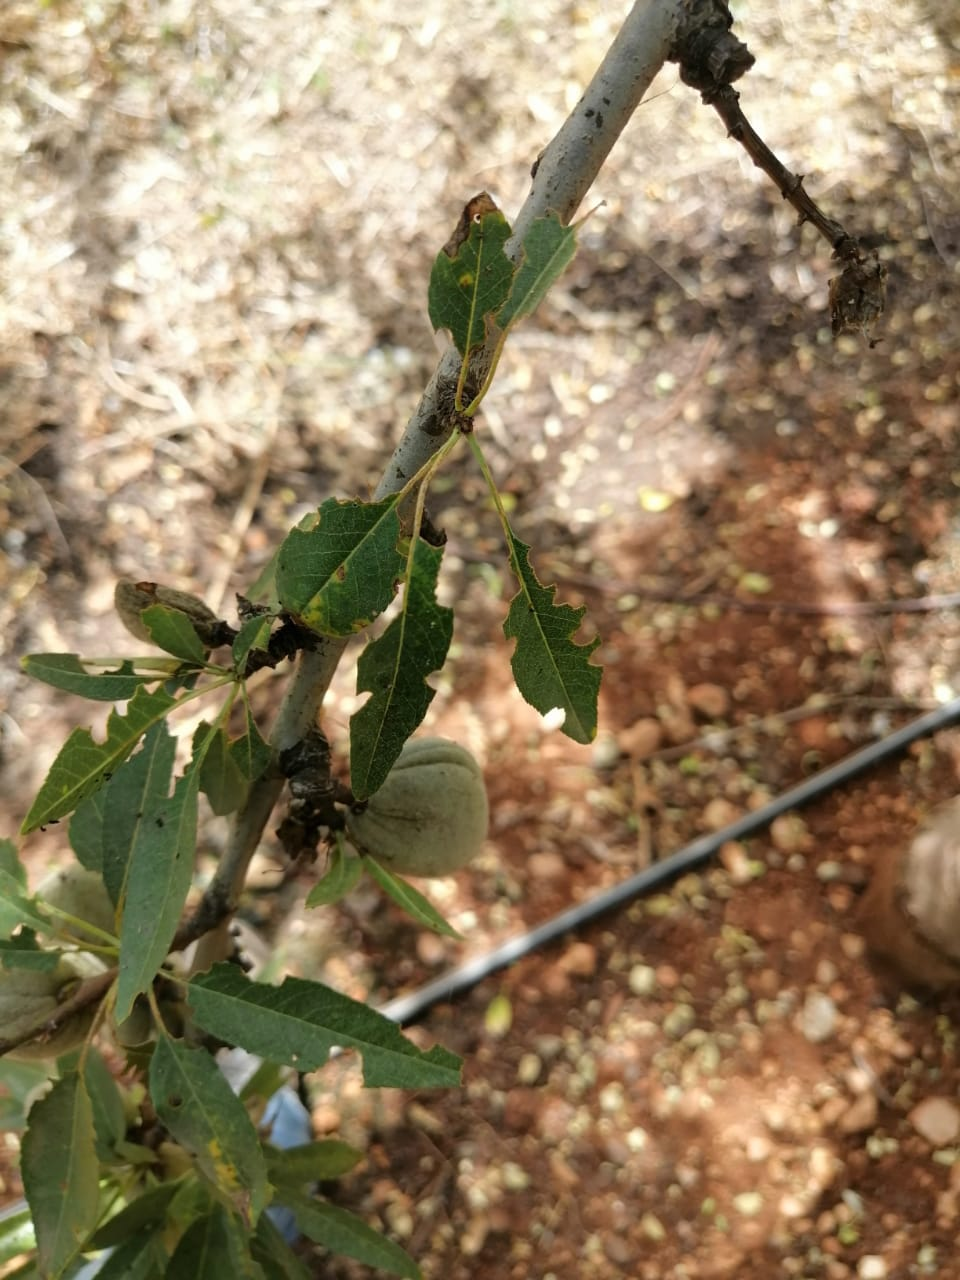othyorinques: (184, 957, 465, 1096), (14, 680, 207, 841), (346, 530, 451, 804), (110, 752, 199, 1023), (499, 518, 605, 744), (274, 494, 402, 642), (426, 191, 511, 361)
